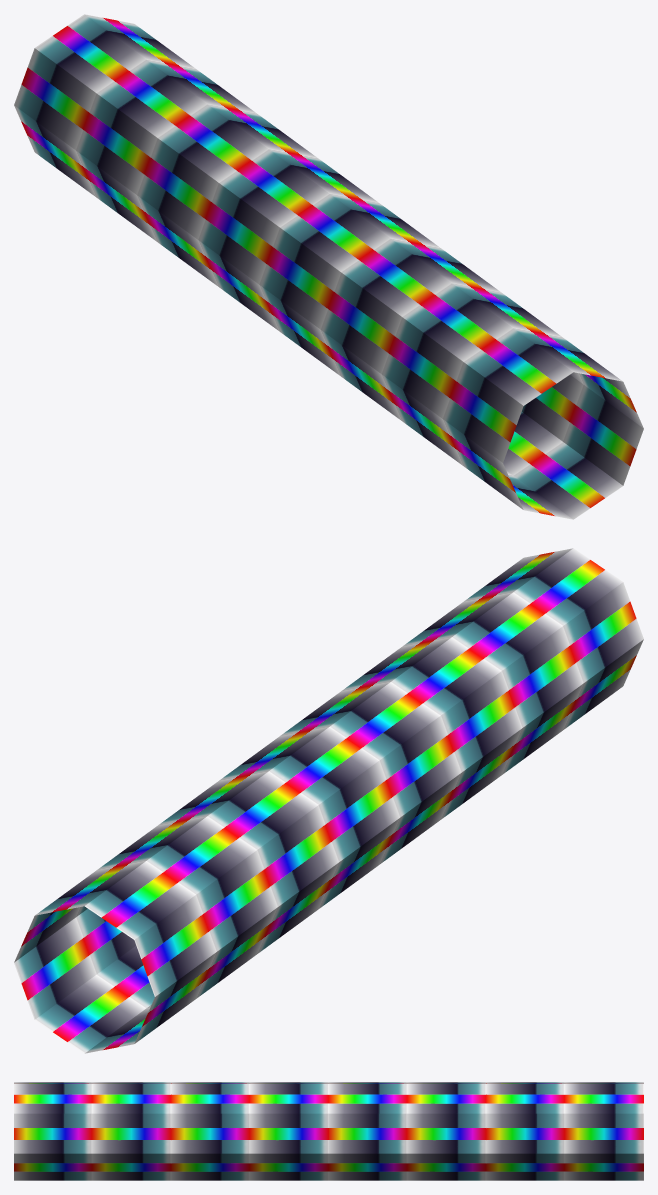
Rendered from pboard.obj.
The picture shows the model from 3 angles, top to bottom: view 1: azimuth 30°, elevation 25°; view 2: azimuth 150°, elevation 25°; view 3: azimuth 270°, elevation 25°; orthographic projection. The views are drawn at different scales.
Parts seen in each view (by area): view 1: Cylinder.001; view 2: Cylinder.001; view 3: Cylinder.001.
Part boxes in pixels (left/top/right/bottom): Cylinder.001: left=14, top=14, right=643, bottom=519; Cylinder.001: left=14, top=548, right=643, bottom=1053; Cylinder.001: left=14, top=1082, right=643, bottom=1180.
Size of the model in its own units: 2 by 2 by 12.02.
1 material, 1 textured.
